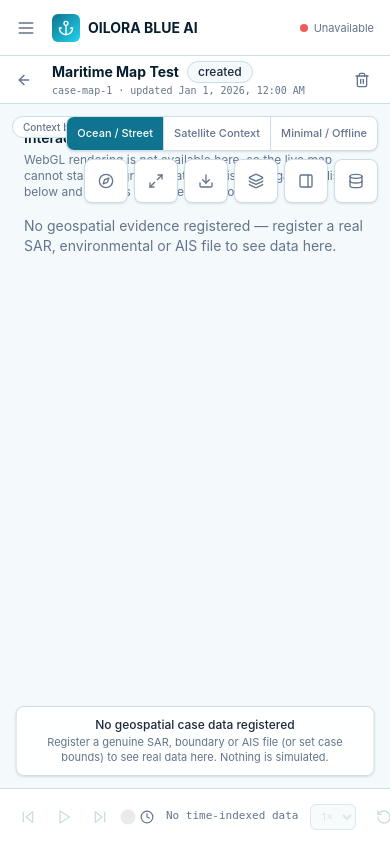
Investigation Workspace (map) › opens the layer panel drawer on smaller viewports
What coordinates should you click on to do the following:
click the button named "Open layer panel"
I would click on:
 (256, 180)
Its box is x1=234 y1=158 x2=278 y2=202.
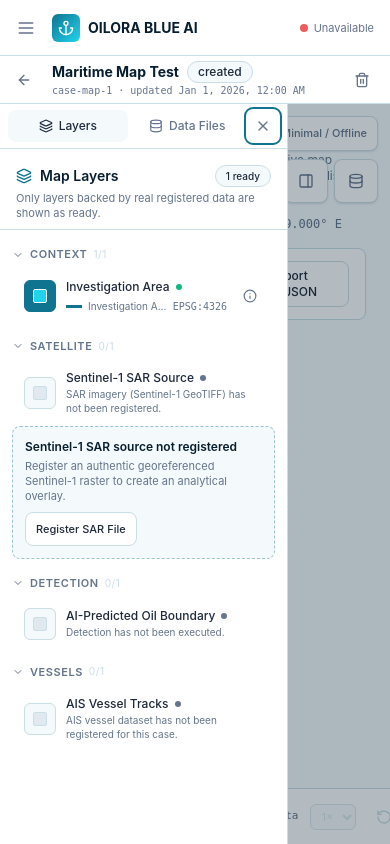
Now the button named "Close layer panel" is shown
